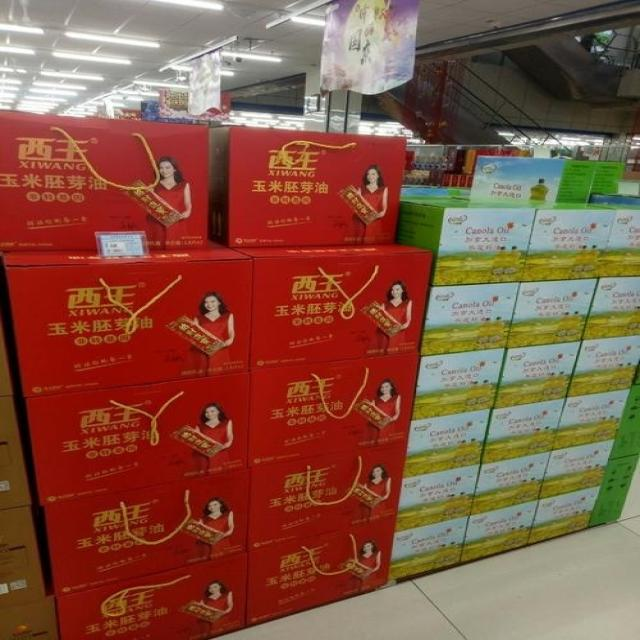box: (1, 240, 253, 397), (24, 370, 248, 505), (0, 109, 209, 251), (42, 469, 248, 597), (230, 243, 433, 370), (209, 127, 407, 249), (246, 351, 420, 468), (246, 439, 408, 552), (246, 513, 397, 626), (56, 552, 247, 639), (397, 196, 538, 287), (470, 198, 616, 281), (421, 281, 521, 355), (412, 347, 506, 419), (504, 277, 599, 347), (403, 407, 493, 478), (470, 154, 595, 204), (393, 463, 481, 534), (493, 340, 581, 408), (481, 398, 567, 464), (389, 515, 470, 583), (550, 388, 632, 453), (458, 500, 539, 564), (471, 451, 553, 514), (539, 439, 618, 500), (0, 506, 46, 610), (567, 334, 640, 399), (527, 486, 602, 546), (581, 276, 640, 341), (1, 393, 33, 510), (590, 454, 640, 526), (594, 201, 640, 278), (609, 360, 640, 459), (0, 598, 58, 639), (591, 160, 625, 195)
